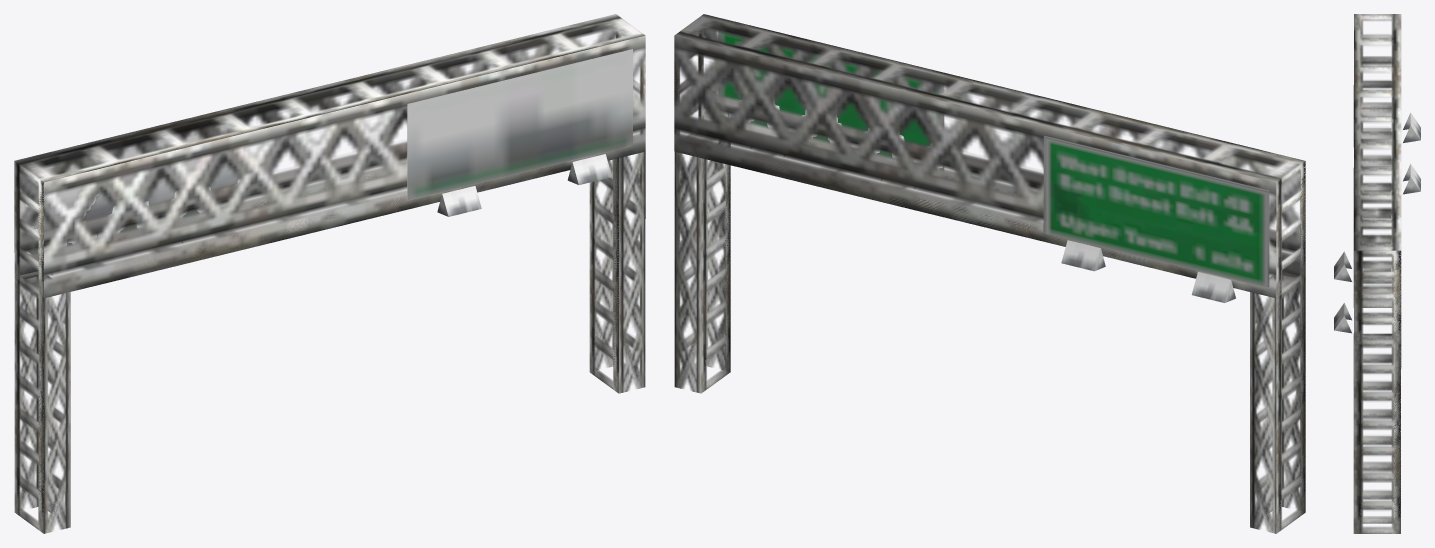
Rendered from Environment - Prop - HWYSIGN - PMHWYSIGN.glb.
The picture shows the model from 3 angles, left to right: view 1: azimuth 30°, elevation 25°; view 2: azimuth 150°, elevation 25°; view 3: azimuth 270°, elevation 25°; orthographic projection. The views are drawn at different scales.
Parts seen in each view (by area): view 1: PMHWYSIGN; view 2: PMHWYSIGN; view 3: PMHWYSIGN.
Boxes of the visible parts, x1,y1,x2,y2 form: PMHWYSIGN: [14, 14, 645, 533]; PMHWYSIGN: [674, 14, 1305, 533]; PMHWYSIGN: [1334, 14, 1420, 533].
Bounding box in the file's own units: 48.56 × 27.11 × 7.52.
Materials: 1 (1 with a texture image).
